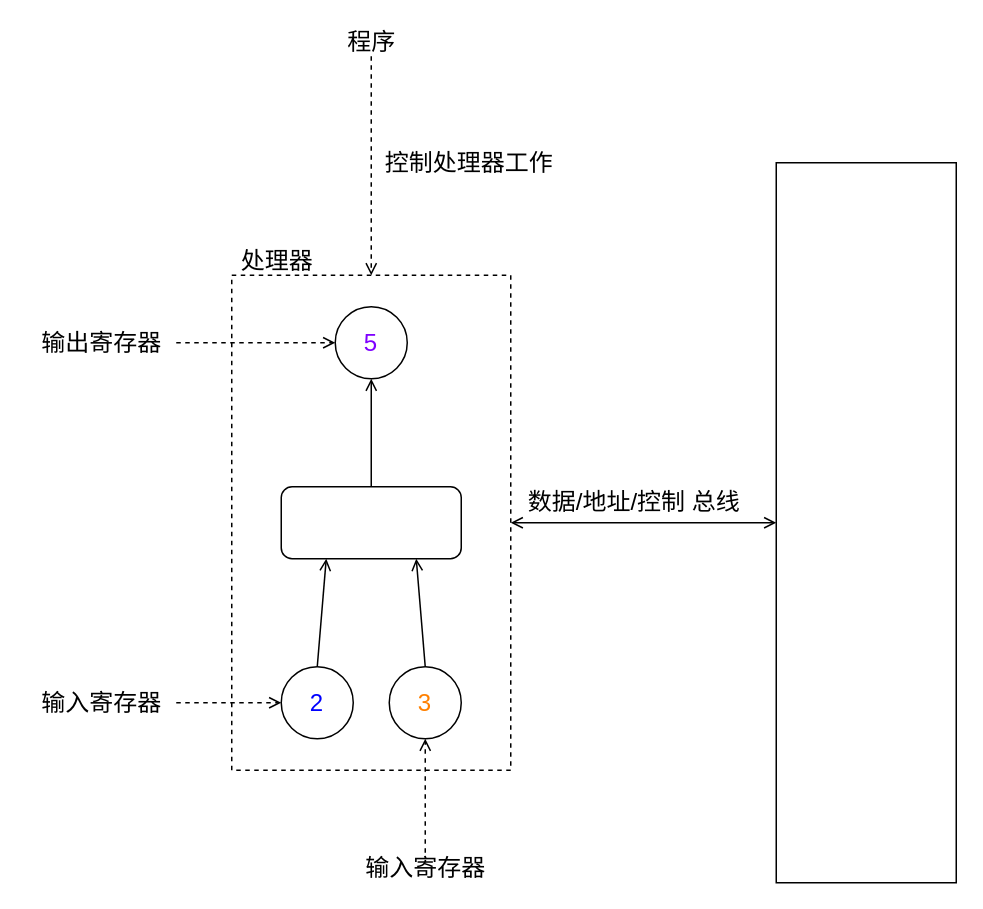
The diagram is 983 pixels wide and 909 high, and some of its shapes have lost their labels. Here are the shapes that lost their labels. From the top down, the centre of each, then its label:
At point (370, 522): "加法器".
At point (865, 522): "内存".
